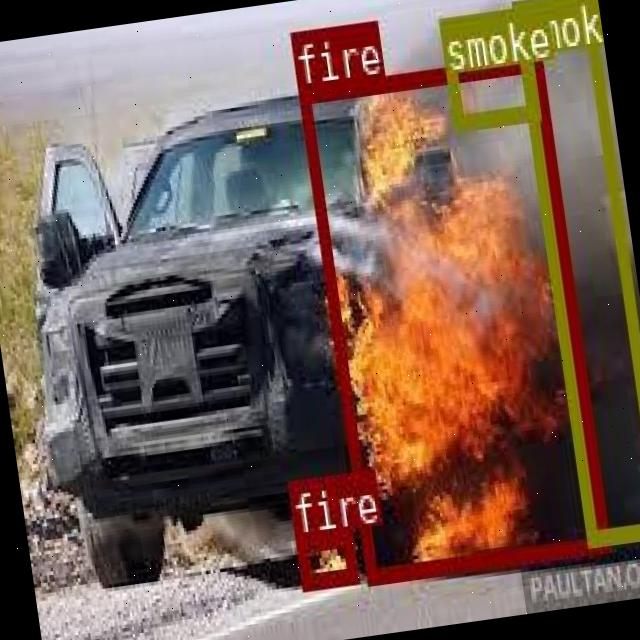fire: (296, 54, 608, 581), (294, 528, 356, 586)
smoke: (510, 0, 640, 544), (437, 5, 538, 128)
